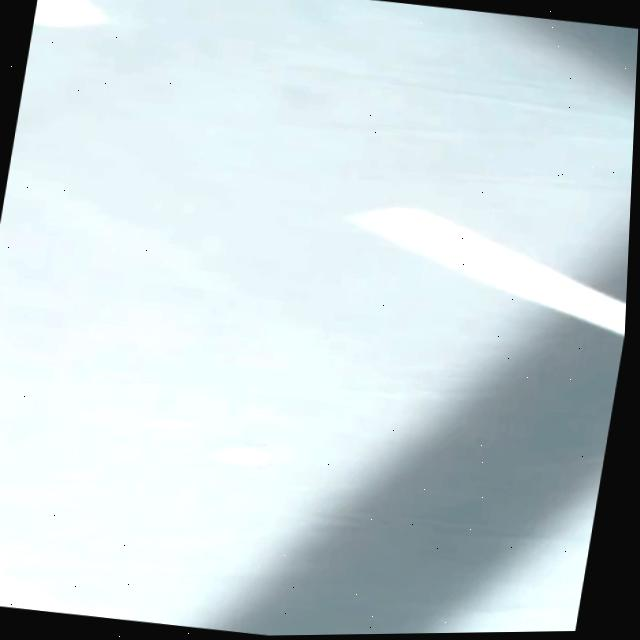center: (351, 206, 626, 335), (33, 0, 107, 25)
